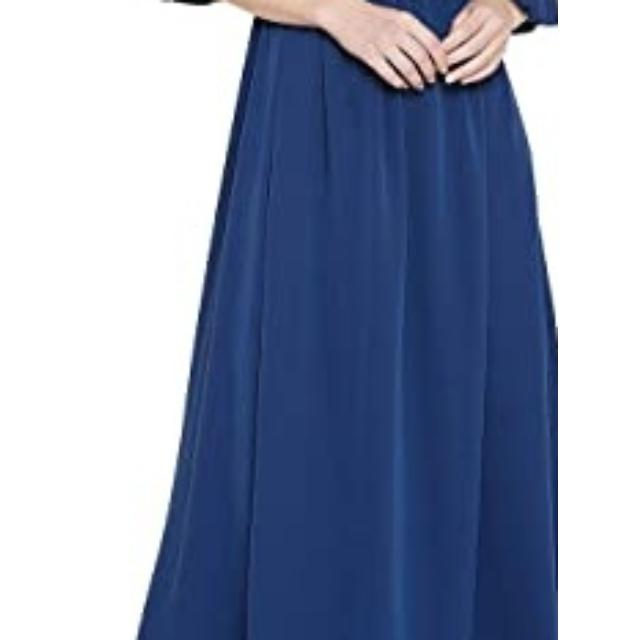polyester: (181, 0, 557, 640)
